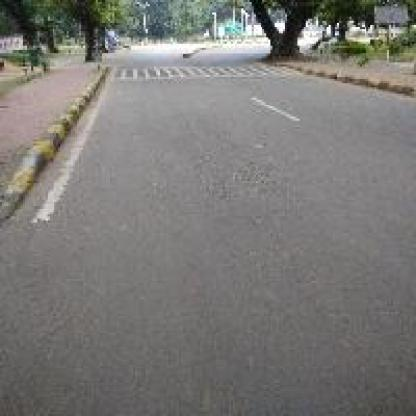Speed Bump: (110, 62, 294, 79)
